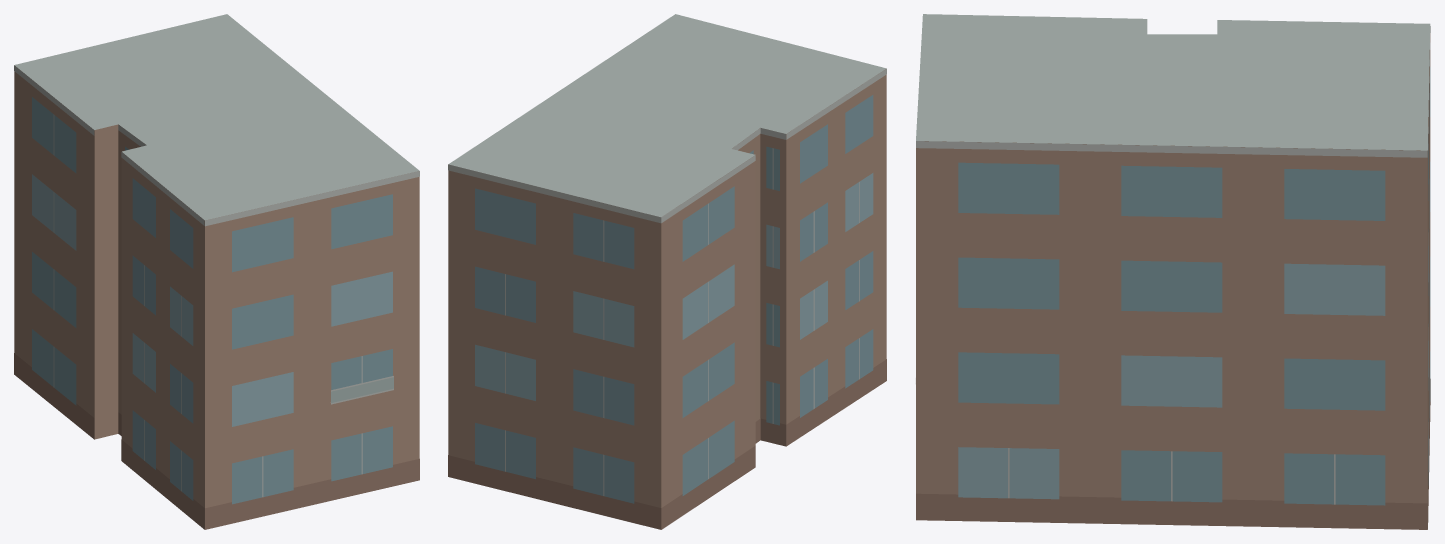
Rendered from survey-upis-32925352.glb.
3 views of the same model, side by side, from view 1: azimuth 30°, elevation 25°; view 2: azimuth 150°, elevation 25°; view 3: azimuth 270°, elevation 25° (orthographic). The views are drawn at different scales.
Visible parts, largest first — view 1: survey-upis-32925352.tmp; view 2: survey-upis-32925352.tmp; view 3: survey-upis-32925352.tmp.
Boxes of the visible parts, x1,y1,x2,y2 form: survey-upis-32925352.tmp: [14, 14, 419, 529]; survey-upis-32925352.tmp: [448, 14, 886, 529]; survey-upis-32925352.tmp: [915, 14, 1430, 529].
Size of the model in its own units: 9.89 by 12.8 by 15.75.
